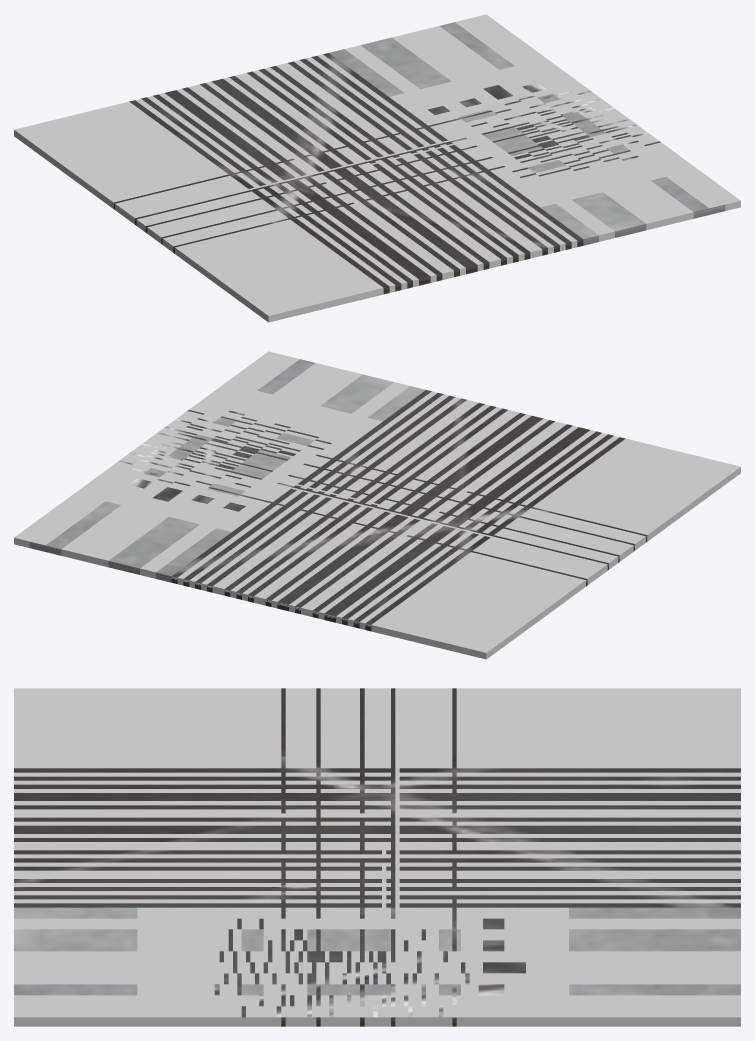
The model's file is Floor.fbx.
3 renders of one model, top to bottom at view 1: azimuth 30°, elevation 25°; view 2: azimuth 150°, elevation 25°; view 3: azimuth 270°, elevation 25°, orthographic. The views are drawn at different scales.
Parts seen in each view (by area): view 1: Cube.006; view 2: Cube.006; view 3: Cube.006.
Boxes of the visible parts, x1,y1,x2,y2 form: Cube.006: [14, 14, 740, 322]; Cube.006: [14, 351, 740, 659]; Cube.006: [14, 688, 740, 1026].
Size of the model in its own units: 30000 by 400 by 28000.
3 materials, 2 textured.
